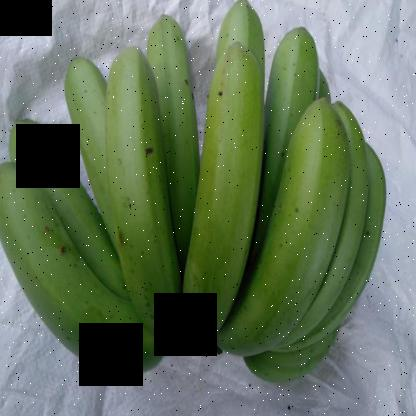freshunripe: (0, 153, 174, 396), (217, 98, 349, 390), (95, 34, 194, 394), (175, 35, 268, 388), (217, 0, 270, 41)
